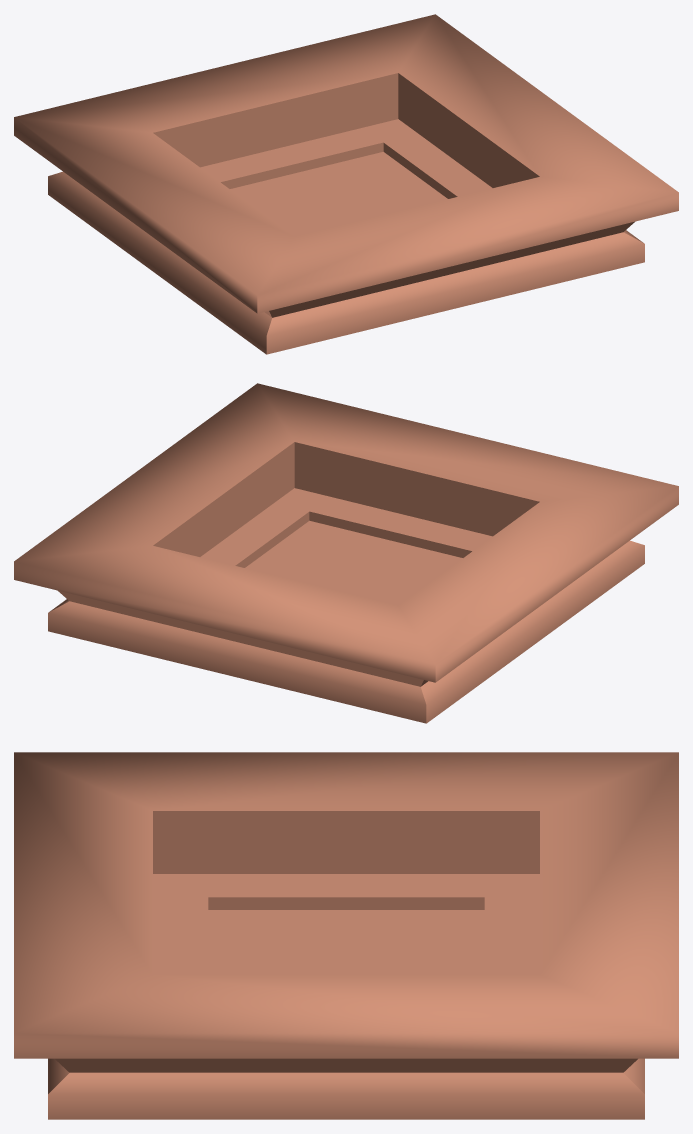
The model's file is Roof.fbx.
3 views of the same model, one above another, from view 1: azimuth 30°, elevation 25°; view 2: azimuth 150°, elevation 25°; view 3: azimuth 270°, elevation 25° (orthographic). The views are drawn at different scales.
Visible parts, largest first — view 1: Roof_roof-flat-square; view 2: Roof_roof-flat-square; view 3: Roof_roof-flat-square.
Part boxes in pixels (<box>): Roof_roof-flat-square: <box>14,14,678,354</box>; Roof_roof-flat-square: <box>14,383,678,723</box>; Roof_roof-flat-square: <box>14,752,678,1119</box>.
Bounding box in the file's own units: 108 × 18 × 108.
